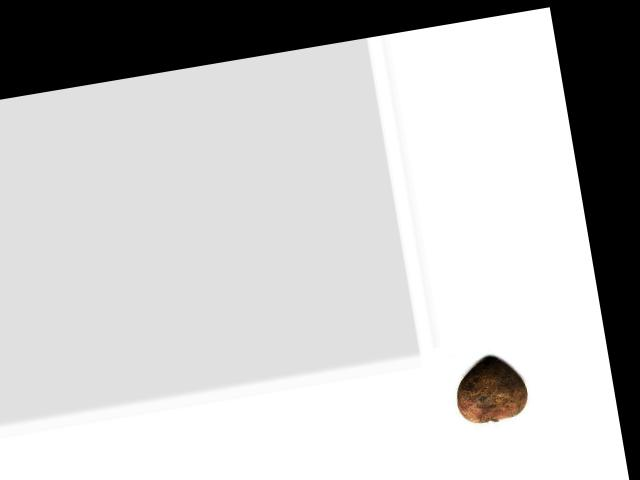beet: (450, 351, 531, 426)
